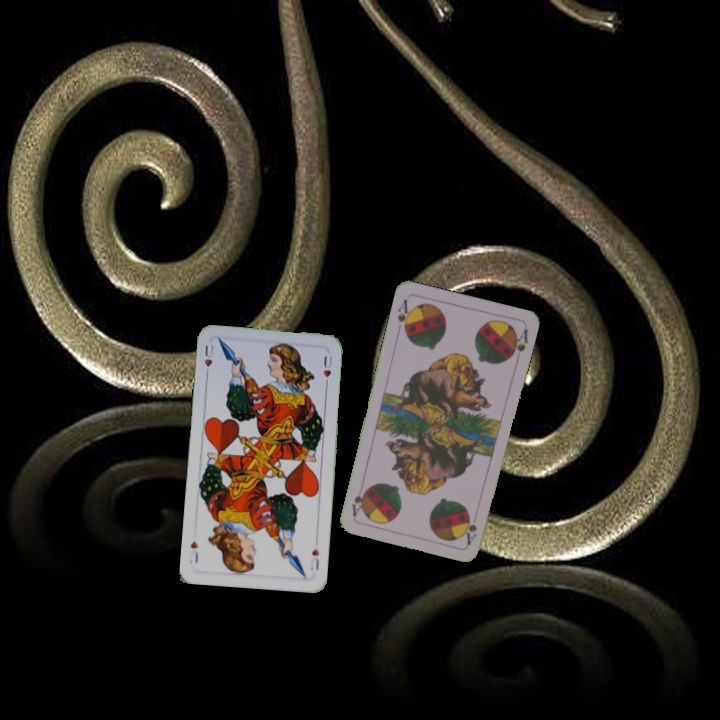HU: (200, 340, 216, 380), (306, 544, 321, 573)
SA: (393, 295, 414, 336), (462, 513, 480, 547)
